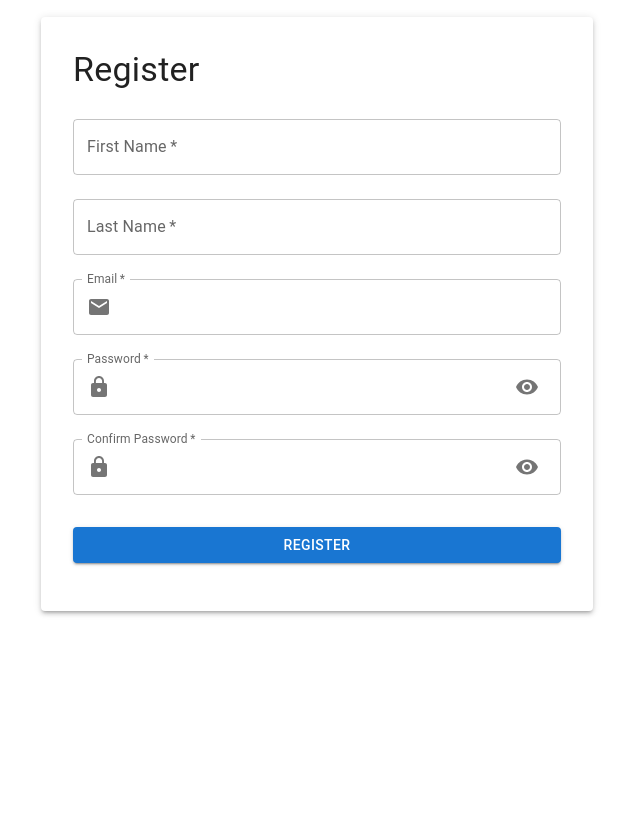
Test case: Register Page › handles network error during registration with friendly message
The width and height of the screenshot is (636, 819).
Note: Fill form with valid data
Step 1. Type "John" into the field with id "firstName" → [317, 147], box [73, 119, 561, 175]
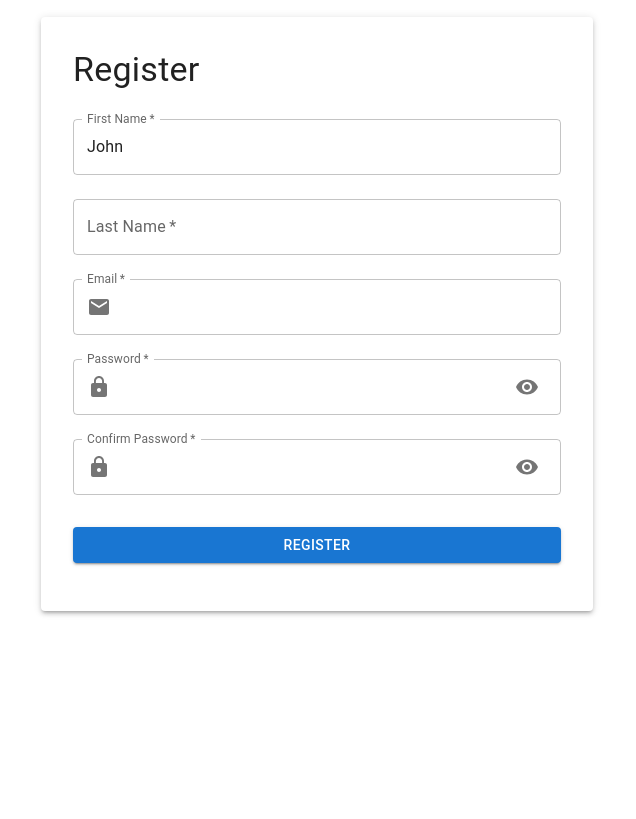
Step 2. Type "Doe" into the field with id "lastName" → [317, 227], box [73, 199, 561, 255]
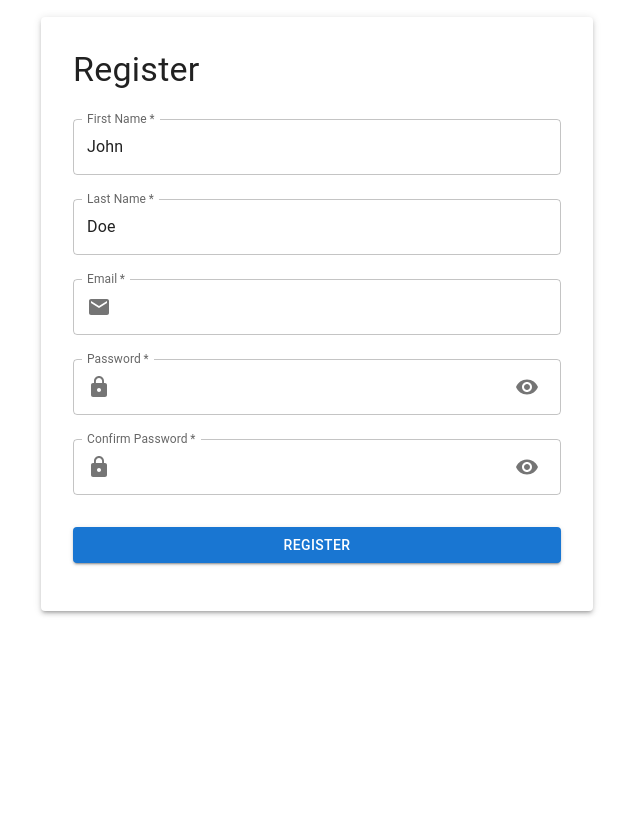
Step 3. Type "john@example.com" into the field with id "email" → [340, 307], box [119, 279, 561, 335]
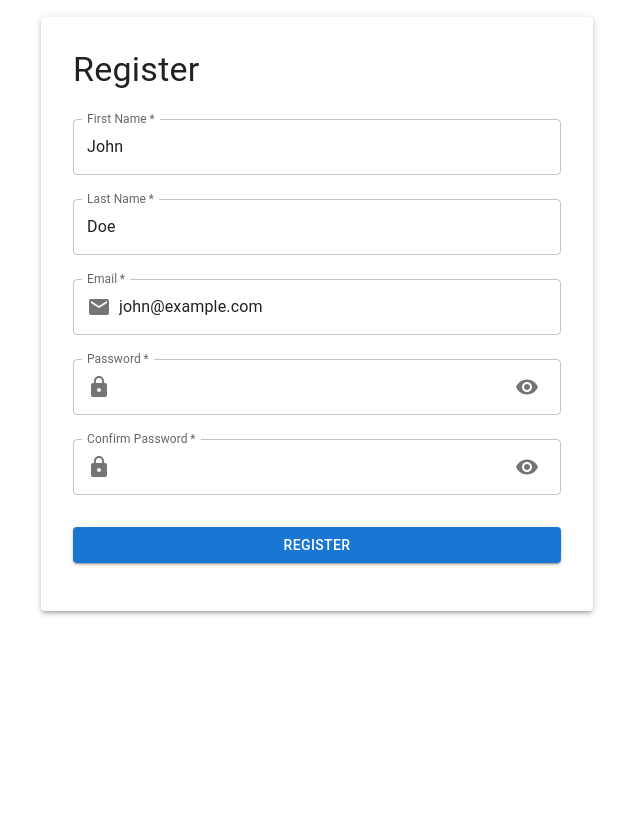
Step 4. Type "Test123@" into the password field labelled "Password *" → [309, 387], box [119, 359, 499, 415]
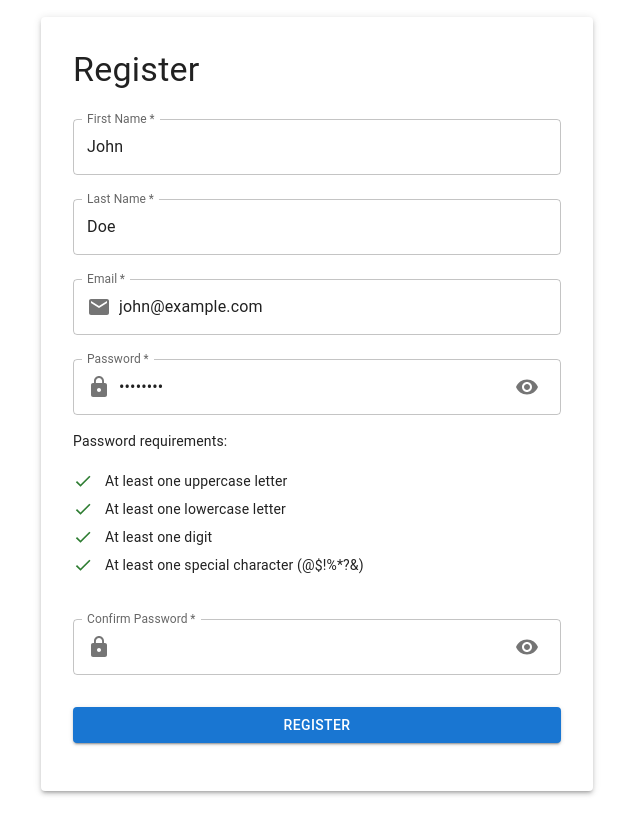
Step 5. Type "Test123@" into the password field with id "confirmPassword" → [309, 647], box [119, 619, 499, 675]
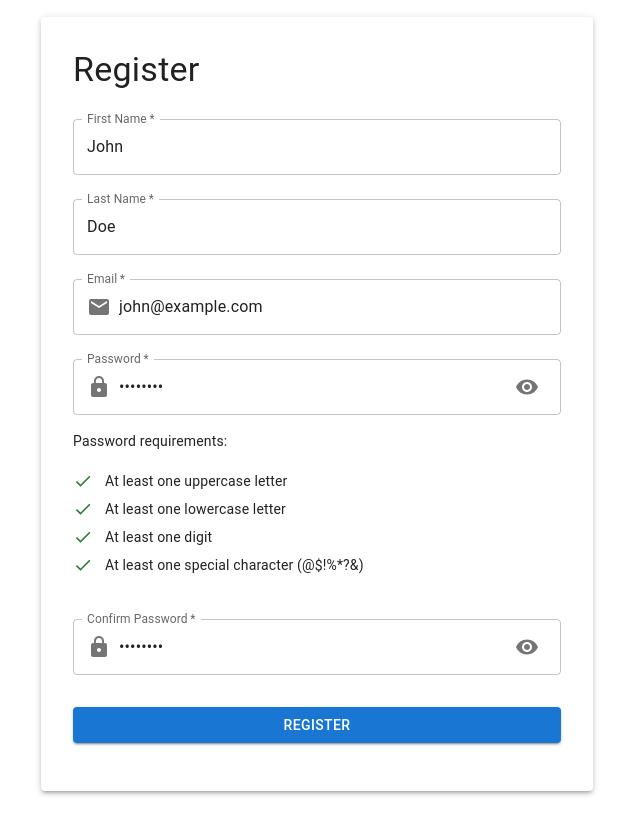
Step 6. Click the button "Register" → [317, 725], box [73, 707, 561, 744]
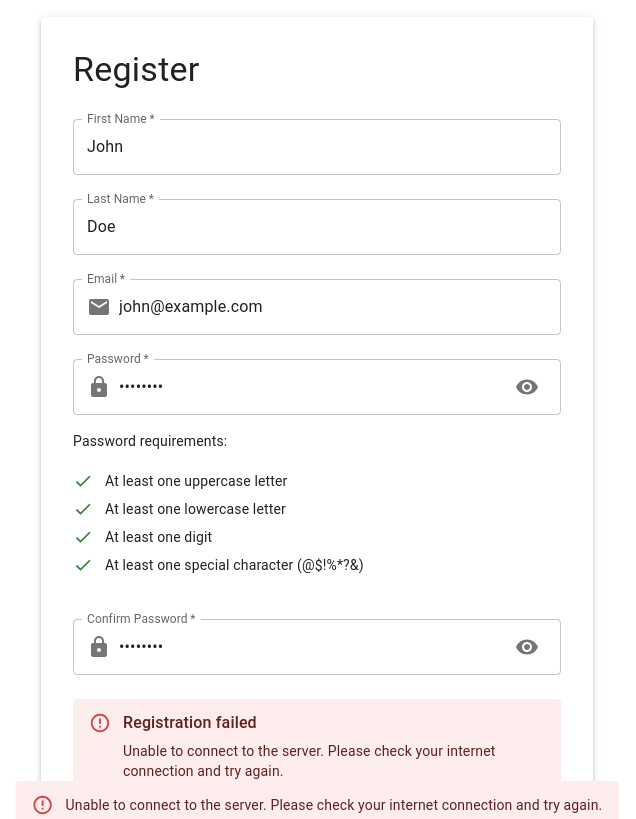
Now the text "Unable to connect to the server. Please check your internet connection and try again." is shown, box [123, 742, 496, 778]
